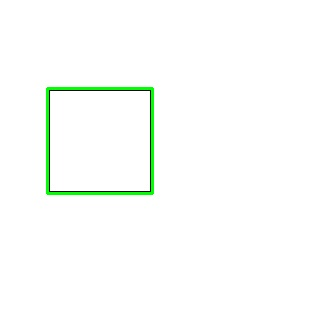line_segment: (46, 87, 154, 194)
